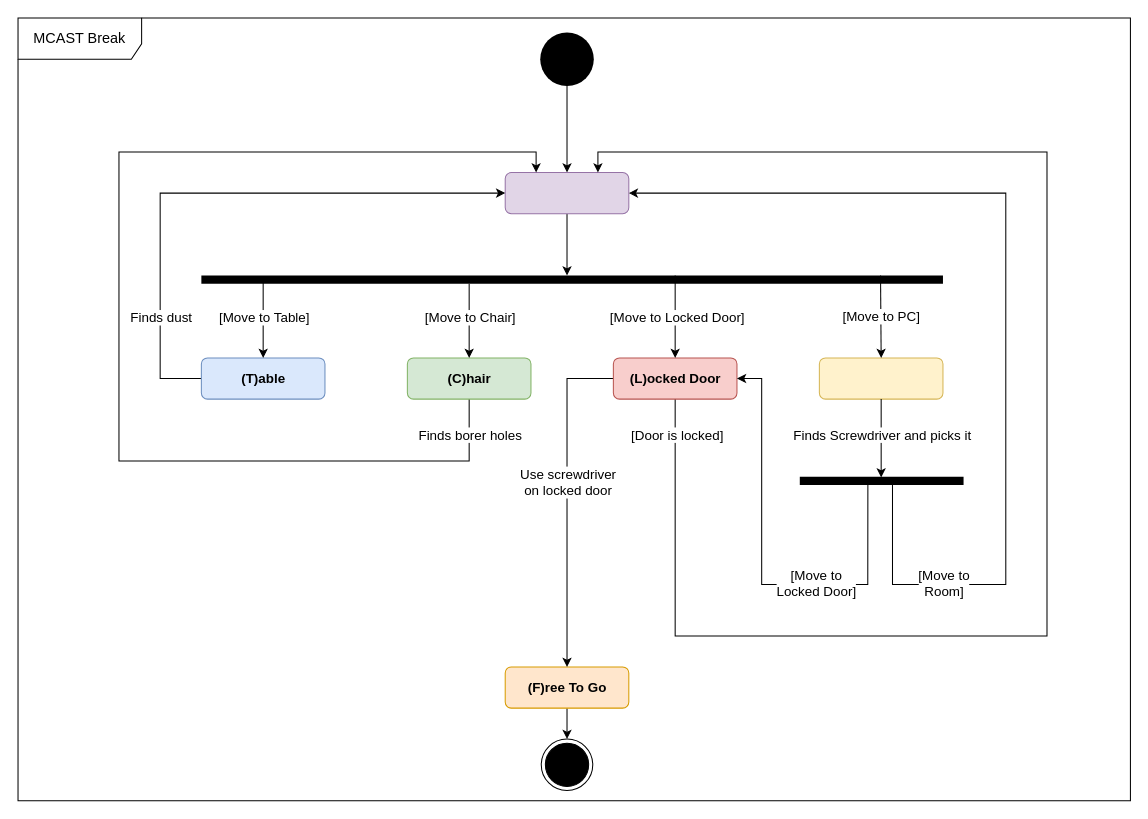
Some shapes in this 1148 by 819 pixel diagram are drawn without their labels. The shapes that lost their labels are listed below. From the top down, each one's centre as x and y in pixels, then its label:
pixel 566 192: (R)oom
pixel 880 378: (P)C
